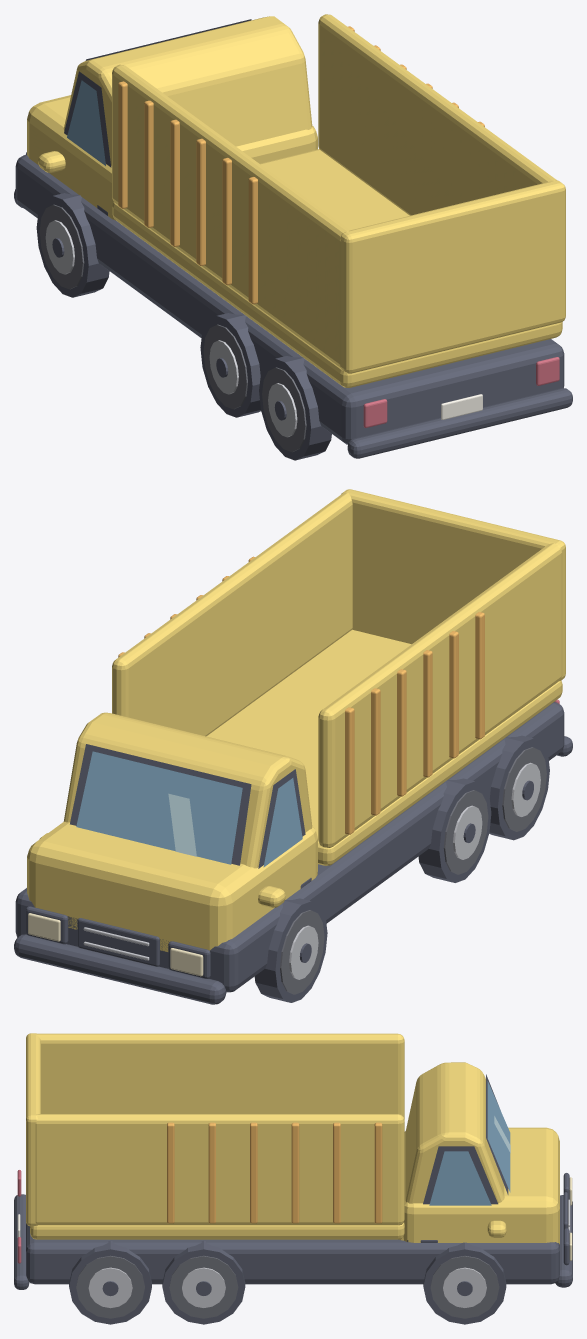
Rendered from dump-truck.glb.
The picture shows the model from 3 angles, top to bottom: view 1: azimuth 30°, elevation 25°; view 2: azimuth 150°, elevation 25°; view 3: azimuth 270°, elevation 25°; orthographic projection. The views are drawn at different scales.
Parts seen in each view (by area): view 1: Tipper_tailgate, Tipper_wall, Tipper_wall.001, Truck_chassis, Shaped_passenger_cabin, Tipper_floor, Cab_lower, Rear_bumper, Rubber_tire.004, Rubber_tire, Rubber_tire.002, Side_glass (+16 smaller); view 2: Tipper_wall.001, Tipper_wall, Cab_lower, Tipper_tailgate, Tipper_floor, Truck_chassis, Blue_windscreen, Shaped_passenger_cabin, Front_bumper, Rubber_tire.002, Rubber_tire, Dark_windscreen_seal (+20 smaller); view 3: Tipper_wall.001, Tipper_wall, Truck_chassis, Cab_lower, Shaped_passenger_cabin, Tipper_floor, Side_glass.001, Tipper_tailgate, Wheel_sidewall.005, Wheel_sidewall.003, Wheel_sidewall.001, Rubber_tire.003 (+15 smaller).
Part boxes in pixels (left/top/right/bottom): Tipper_tailgate: left=340, top=180, right=565, bottom=373; Tipper_wall: left=112, top=64, right=349, bottom=367; Tipper_wall.001: left=318, top=14, right=557, bottom=215; Truck_chassis: left=15, top=154, right=564, bottom=444; Shaped_passenger_cabin: left=63, top=16, right=312, bottom=165; Tipper_floor: left=112, top=149, right=562, bottom=387; Cab_lower: left=27, top=95, right=317, bottom=220; Rear_bumper: left=347, top=388, right=572, bottom=458; Rubber_tire.004: left=259, top=356, right=331, bottom=460; Rubber_tire: left=36, top=193, right=109, bottom=297; Rubber_tire.002: left=200, top=313, right=260, bottom=417; Side_glass: left=67, top=80, right=105, bottom=165; Tipper_wall.001: left=112, top=492, right=352, bottom=736; Tipper_wall: left=318, top=543, right=562, bottom=847; Cab_lower: left=27, top=821, right=317, bottom=951; Tipper_tailgate: left=341, top=489, right=565, bottom=680; Tipper_floor: left=206, top=629, right=562, bottom=865; Truck_chassis: left=15, top=702, right=564, bottom=992; Blue_windscreen: left=76, top=751, right=242, bottom=864; Shaped_passenger_cabin: left=63, top=712, right=312, bottom=868; Front_bumper: left=14, top=934, right=226, bottom=1004; Rubber_tire.002: left=418, top=778, right=491, bottom=882; Rubber_tire: left=254, top=898, right=327, bottom=1002; Dark_windscreen_seal: left=70, top=744, right=251, bottom=865; Tipper_wall.001: left=35, top=1114, right=404, bottom=1225; Tipper_wall: left=36, top=1033, right=404, bottom=1119; Truck_chassis: left=26, top=1223, right=559, bottom=1284; Cab_lower: left=403, top=1127, right=559, bottom=1244; Shaped_passenger_cabin: left=399, top=1062, right=504, bottom=1240; Tipper_floor: left=30, top=1222, right=404, bottom=1239; Side_glass.001: left=429, top=1151, right=491, bottom=1205; Tipper_tailgate: left=26, top=1033, right=40, bottom=1226; Wheel_sidewall.005: left=76, top=1255, right=144, bottom=1318; Wheel_sidewall.003: left=169, top=1255, right=238, bottom=1318; Wheel_sidewall.001: left=430, top=1256, right=499, bottom=1318; Rubber_tire.003: left=162, top=1240, right=245, bottom=1324.
Size of the model in its own units: 2.71 by 2.65 by 6.59.
